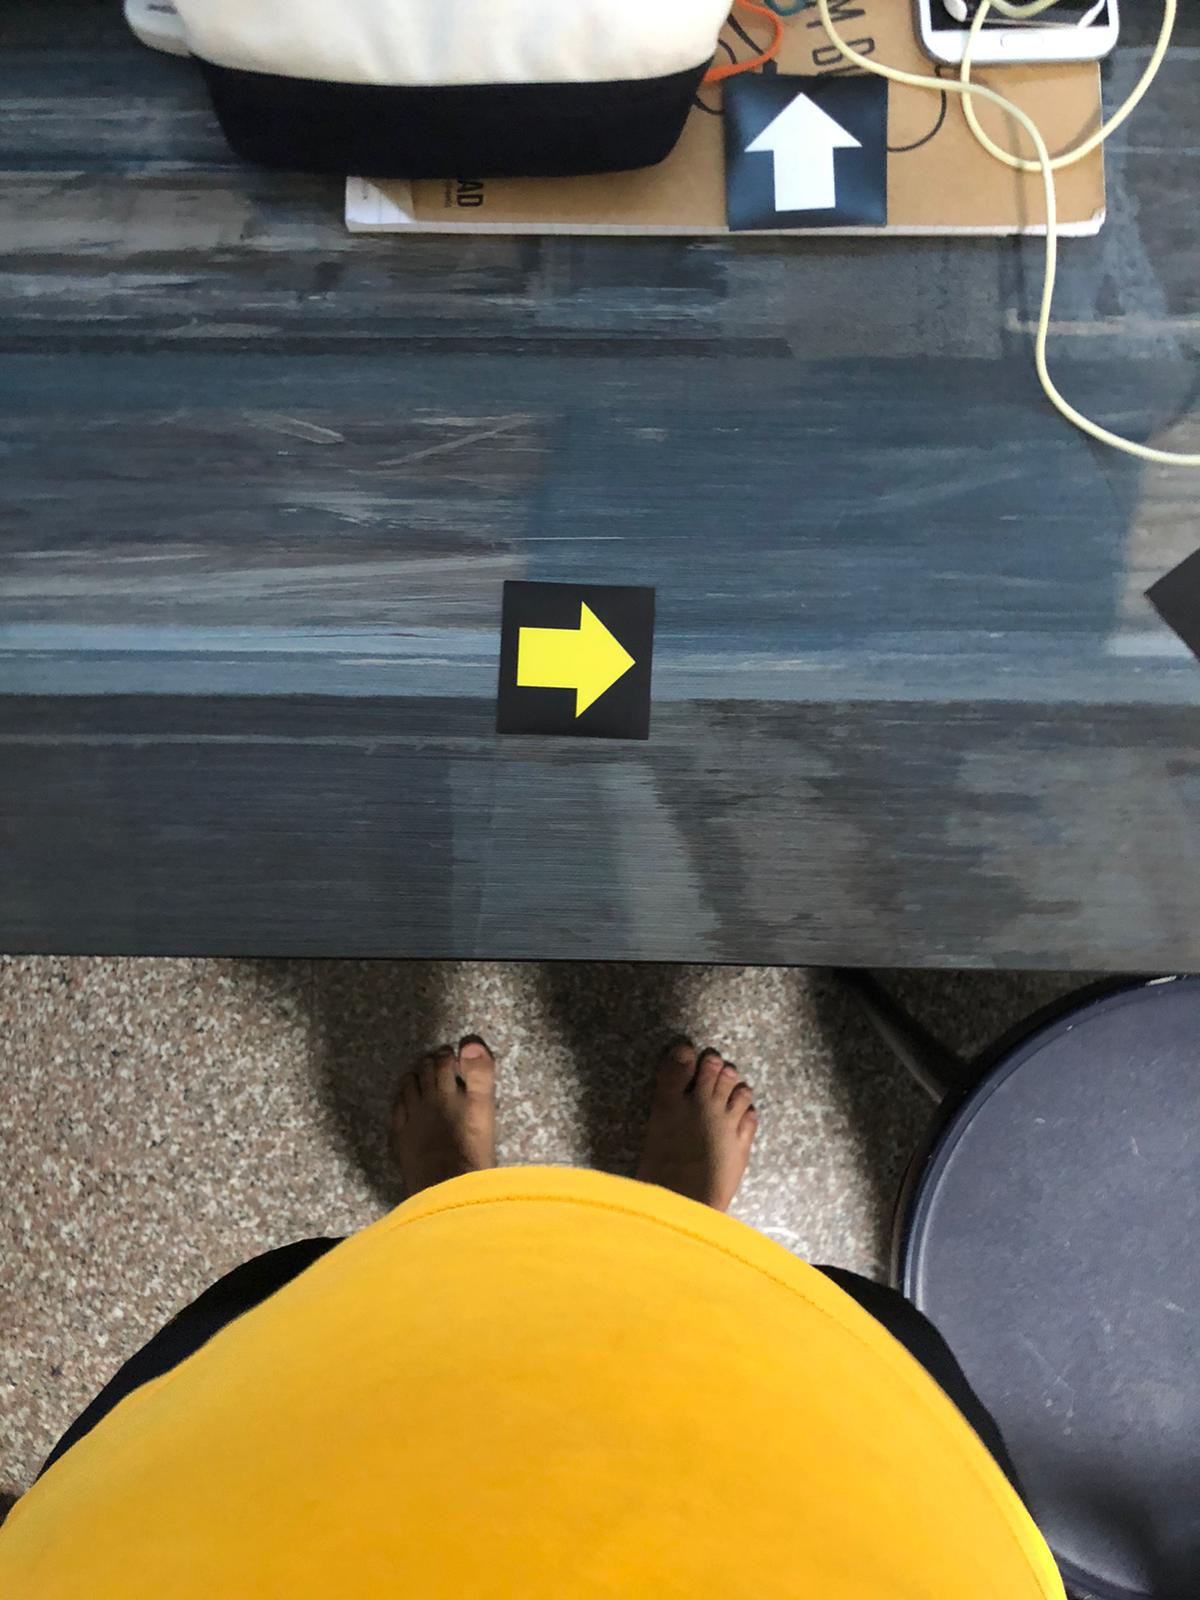Right Arrow: (508, 588, 645, 736)
Top Arrow: (729, 84, 880, 219)
